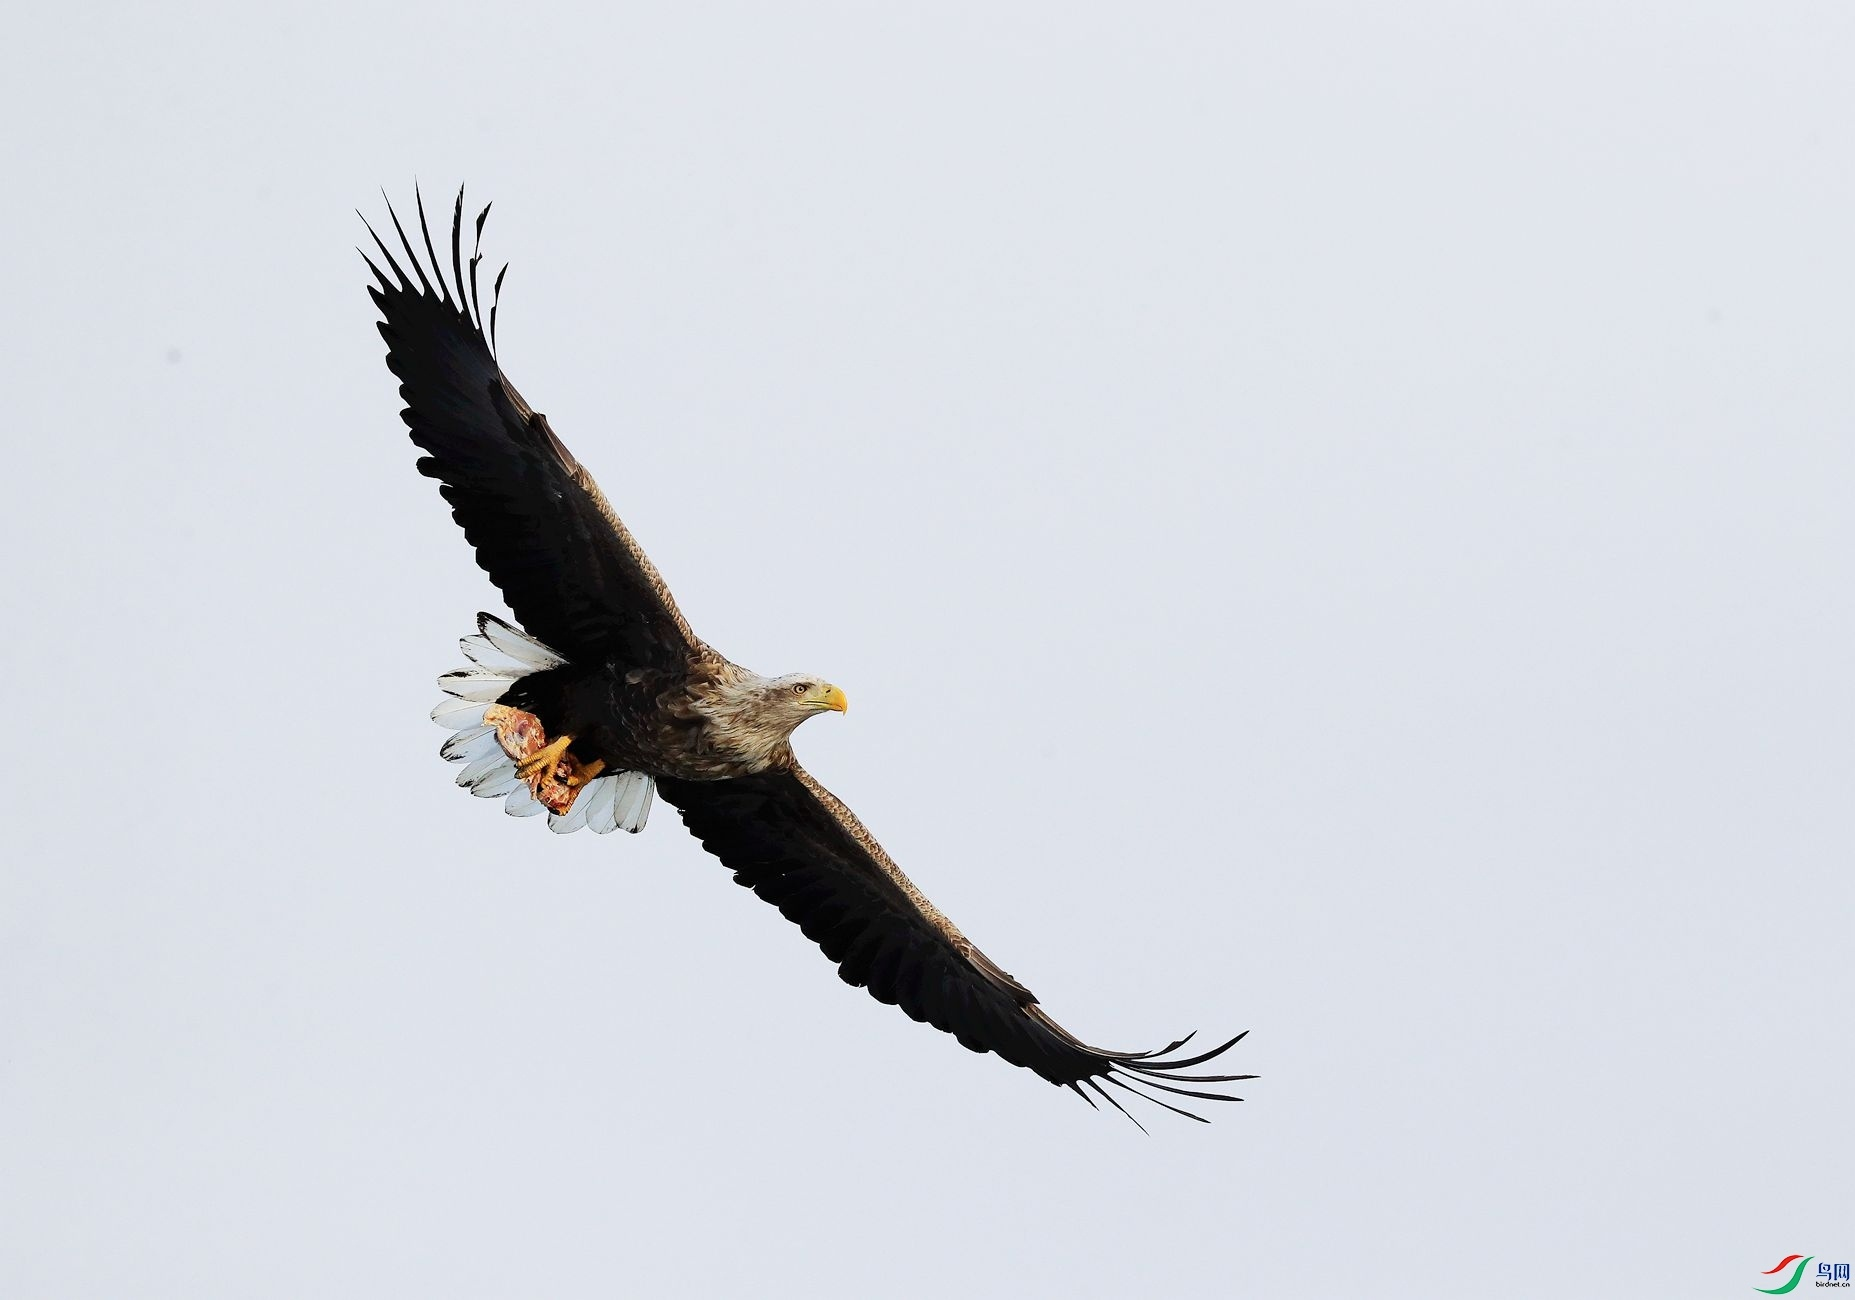bird: (350, 178, 1267, 1148)
